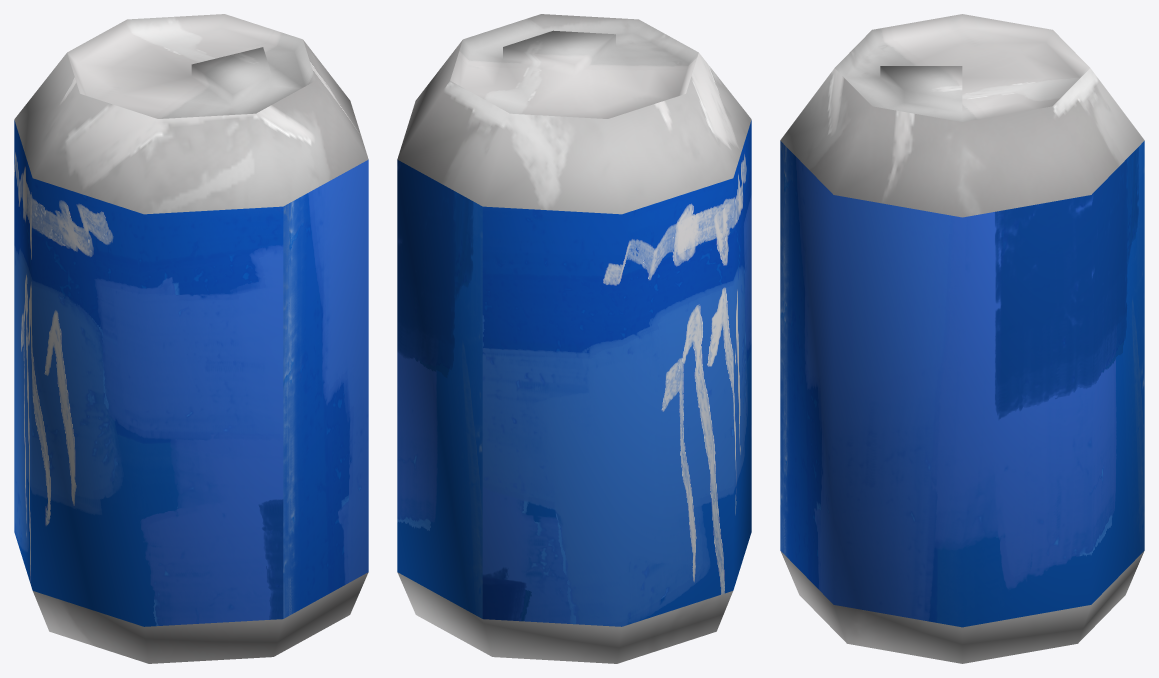
File: props-soda.glb
3 views of the same model, side by side, from view 1: azimuth 30°, elevation 25°; view 2: azimuth 150°, elevation 25°; view 3: azimuth 270°, elevation 25° (orthographic).
Visible parts, largest first — view 1: Circle.002; view 2: Circle.002; view 3: Circle.002.
Boxes of the visible parts, x1=… form: Circle.002: x1=14, y1=14, x2=368, y2=663; Circle.002: x1=397, y1=14, x2=751, y2=663; Circle.002: x1=780, y1=14, x2=1144, y2=663.
Bounding box in the file's own units: 0.075 × 0.1201 × 0.075.
Materials: 1 (1 with a texture image).
